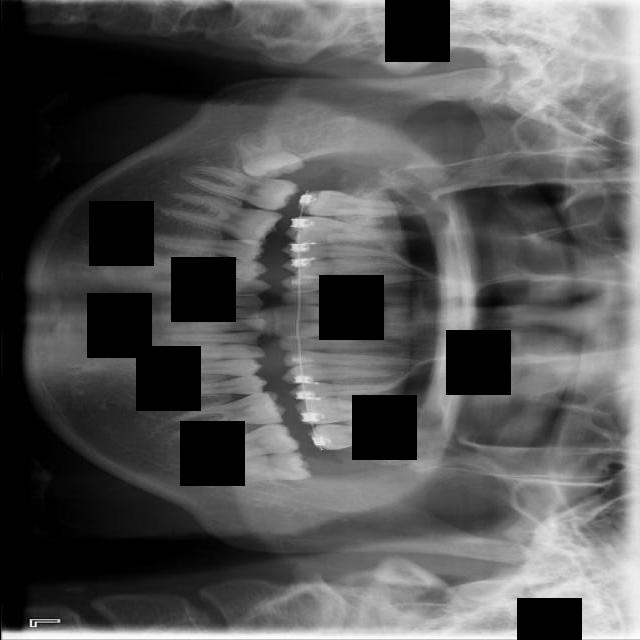73: (59, 596, 69, 602)
BioHorizons Implant: (310, 423, 432, 450)
Biomet 3i Implant: (202, 448, 312, 491)
Blue Sky Bio Implant: (181, 419, 301, 472)
Caries: (297, 190, 423, 217)
Implant: (181, 162, 301, 216)
Keystone Dental Implant: (231, 118, 305, 188)
